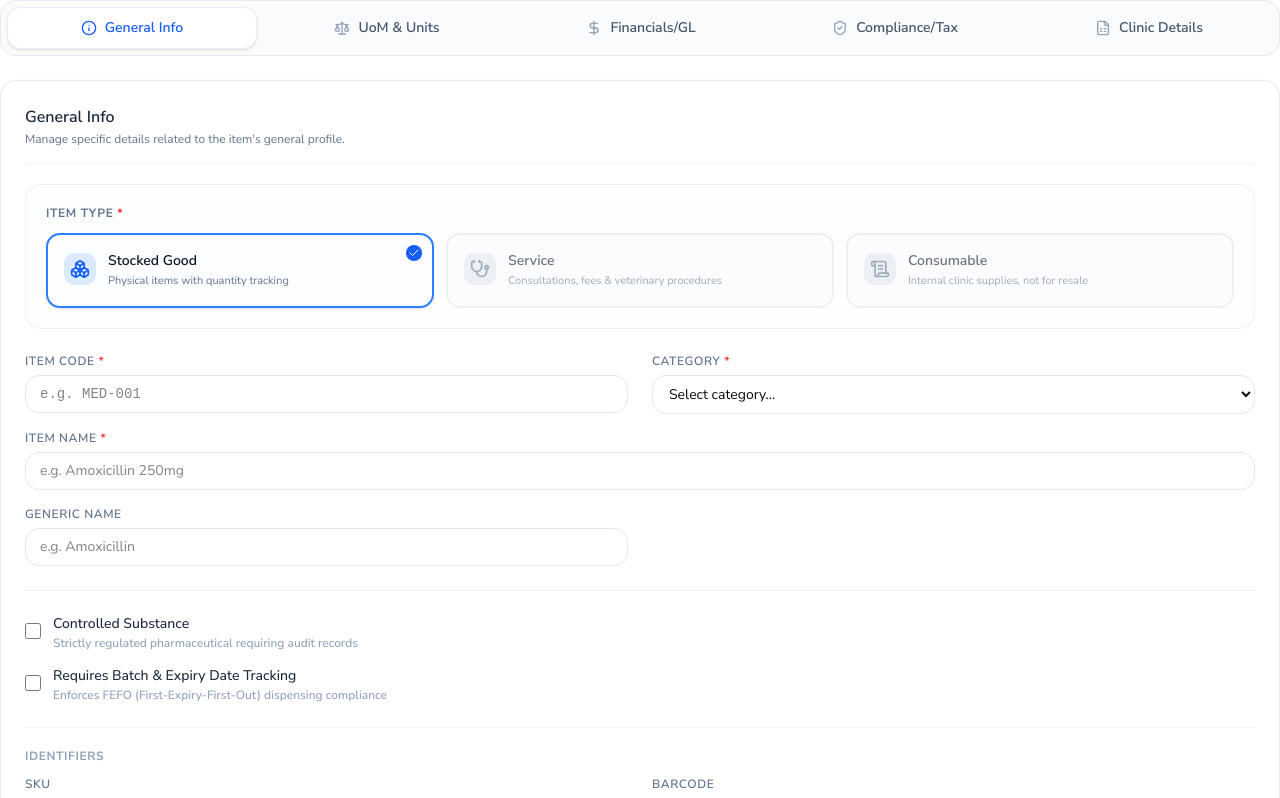
Scenario: ItemForm › Tab navigation › preserves form values when switching tabs
In the field labelled "Item Code *": (326, 394) [25,374,628,412], type "MYCODE"
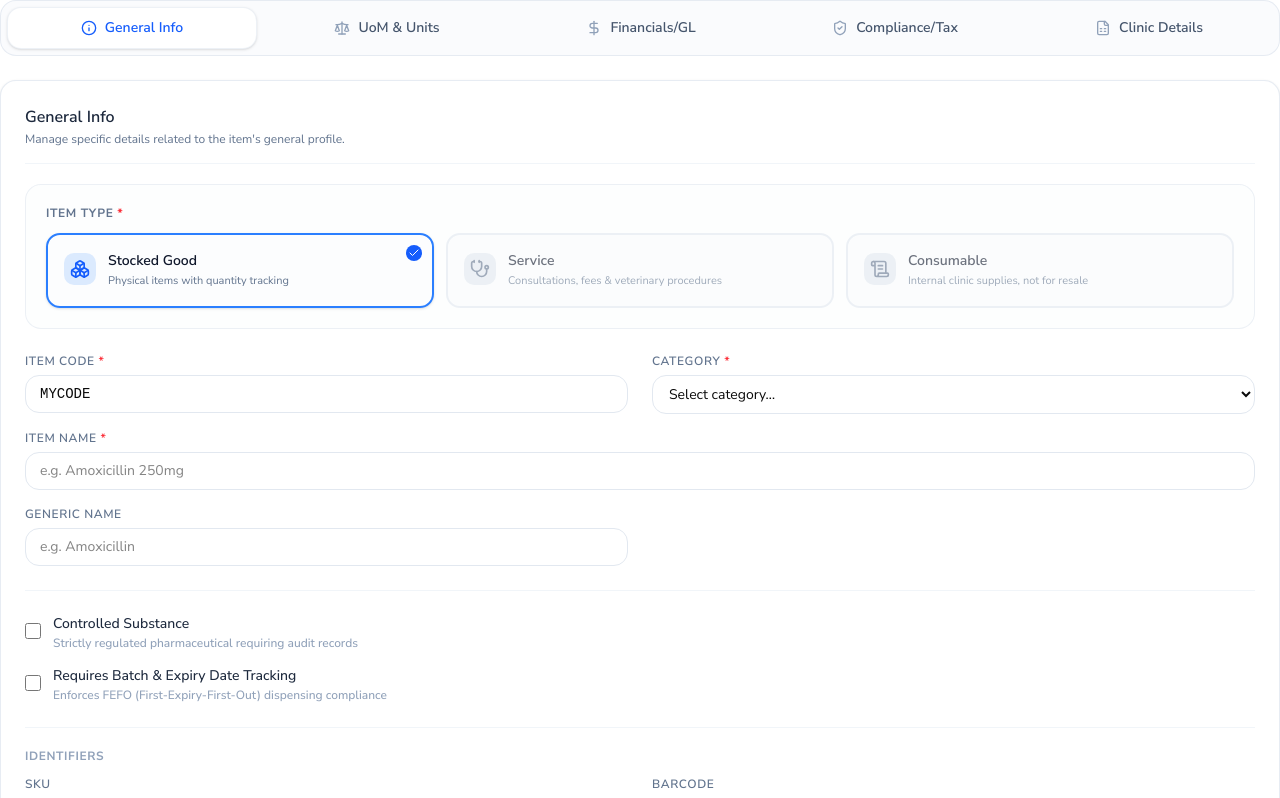
Click the button "Financials/GL": click(641, 28) [517,7,765,49]
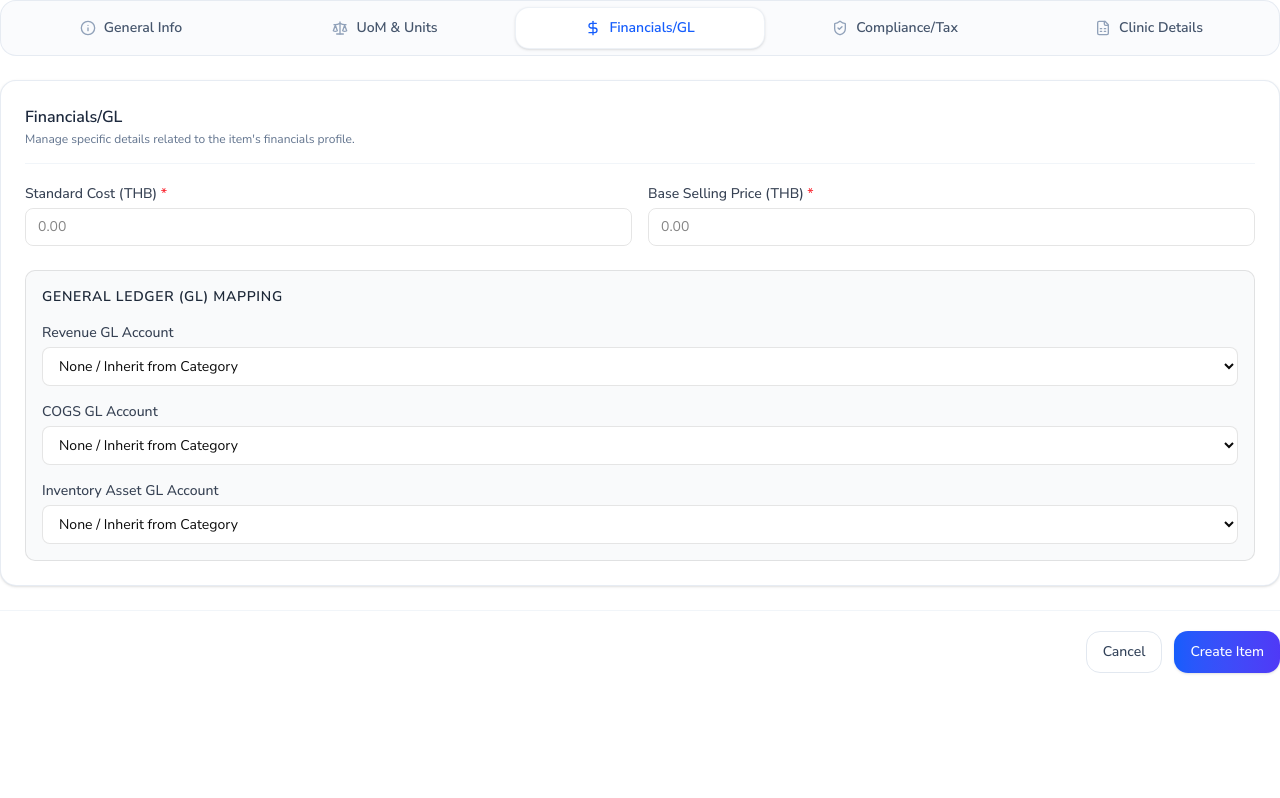
Click the button "General Info": click(131, 28) [7,7,255,49]
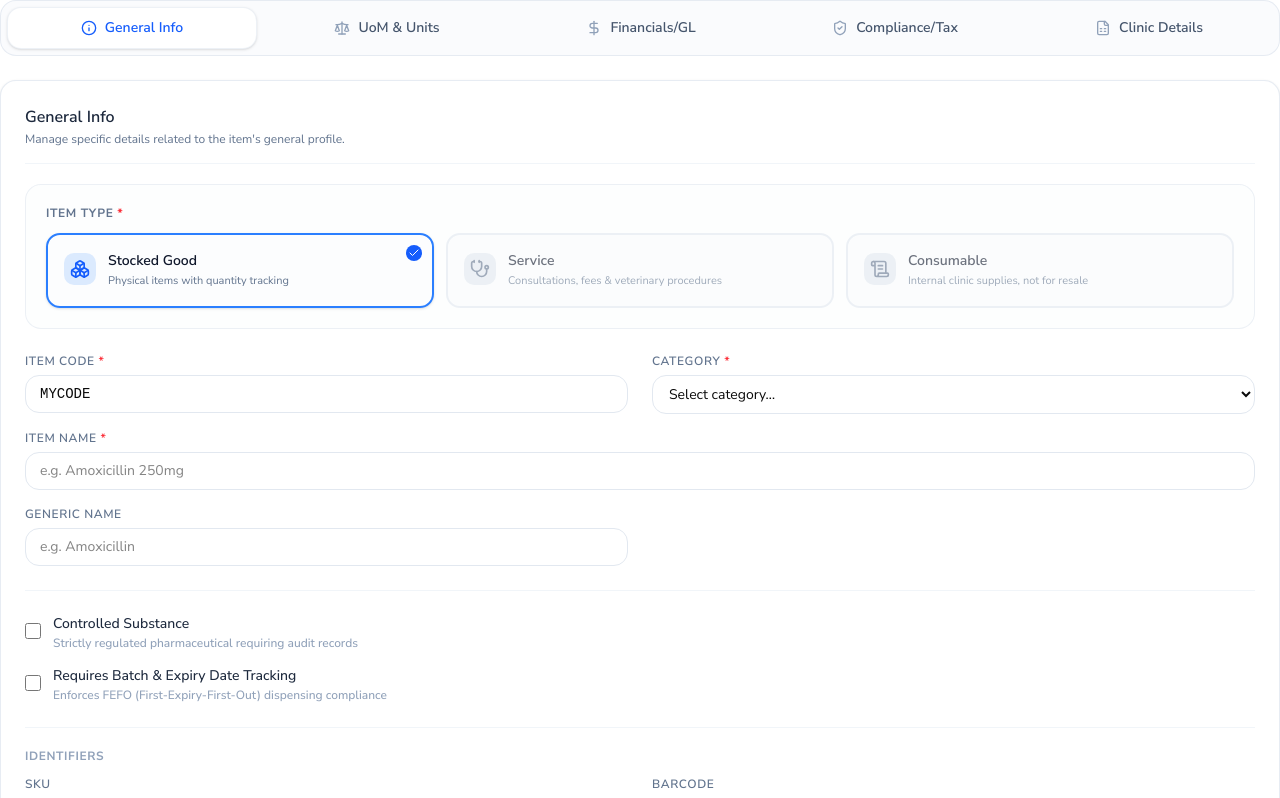
Check: the field labelled "Item Code *" holds "MYCODE", box [25,374,628,412]
